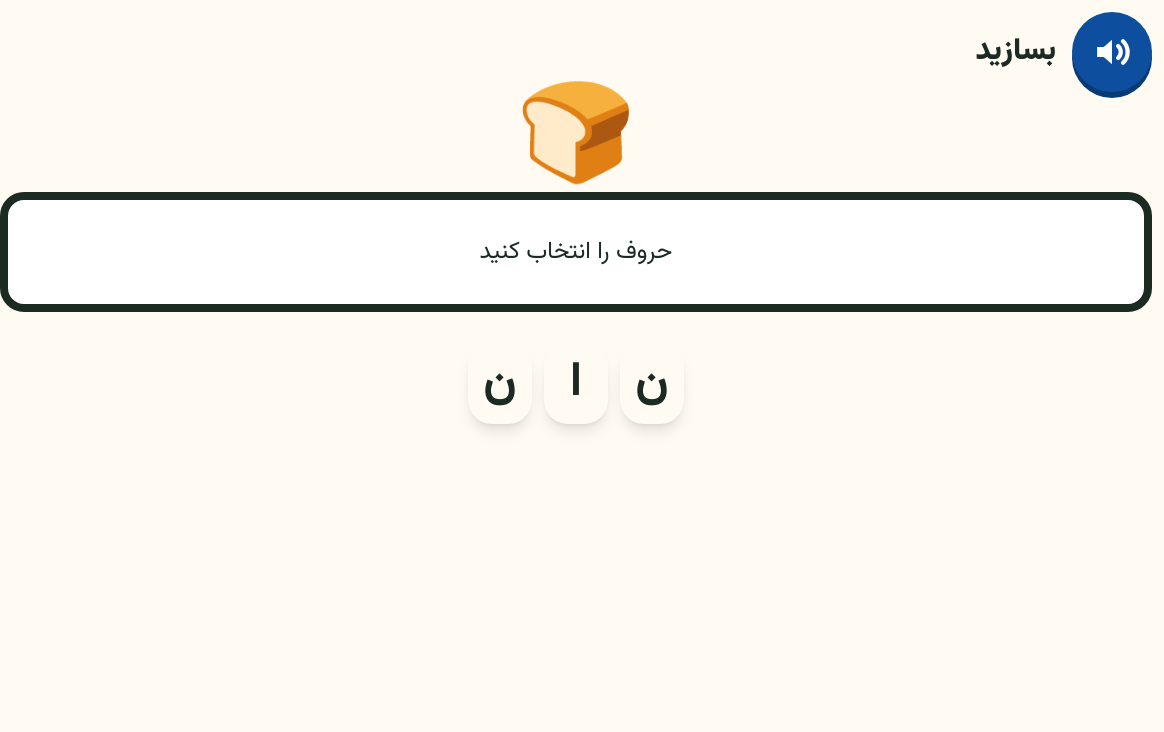
Test: BuildWordExercise undo › returns a placed letter before check
Click the 2nd button "ن" at (652, 384), box left=620, top=344, right=684, bottom=424
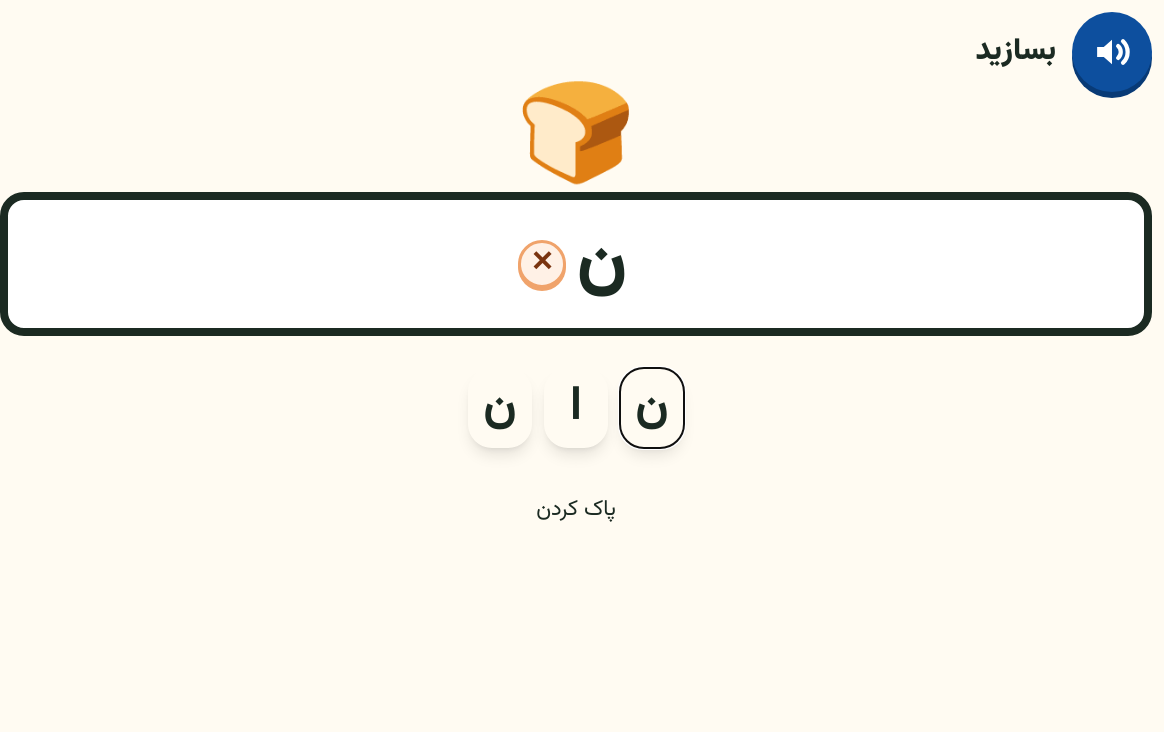
Click the button "ا" at (576, 408), box left=544, top=368, right=608, bottom=448
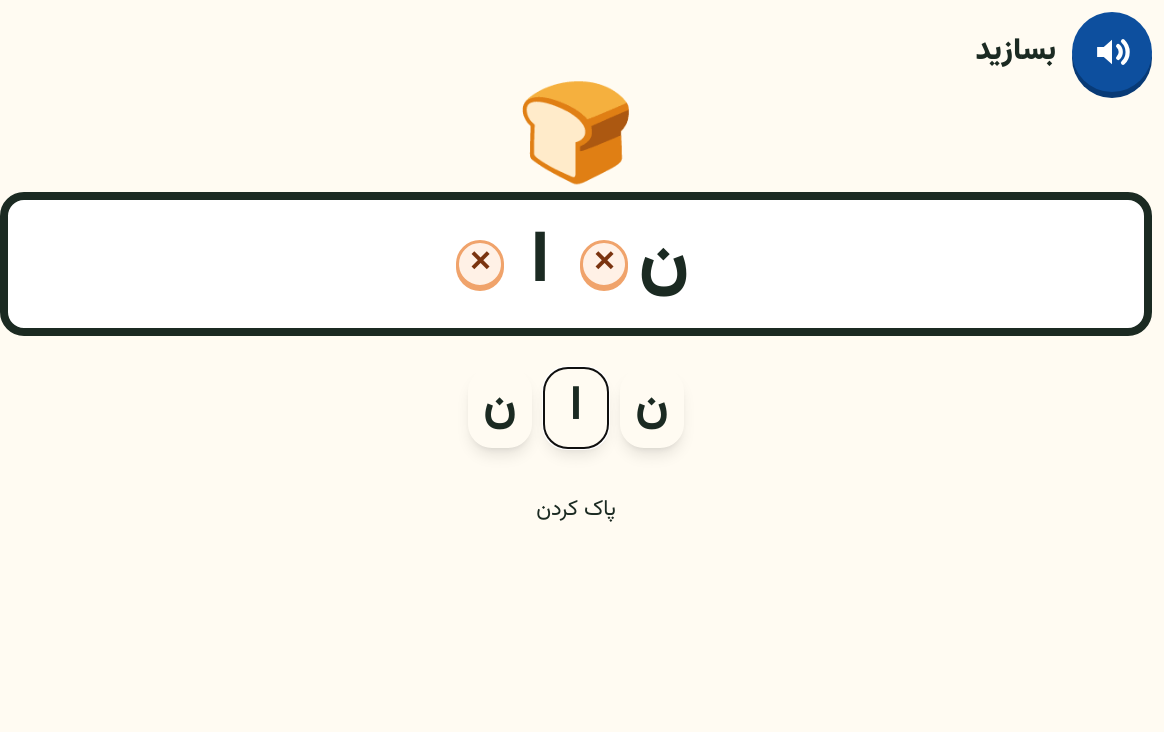
Now the 1st button "ا" is shown, box left=508, top=224, right=572, bottom=304
Click the 1st button "✕" at (480, 264), box left=456, top=240, right=504, bottom=288
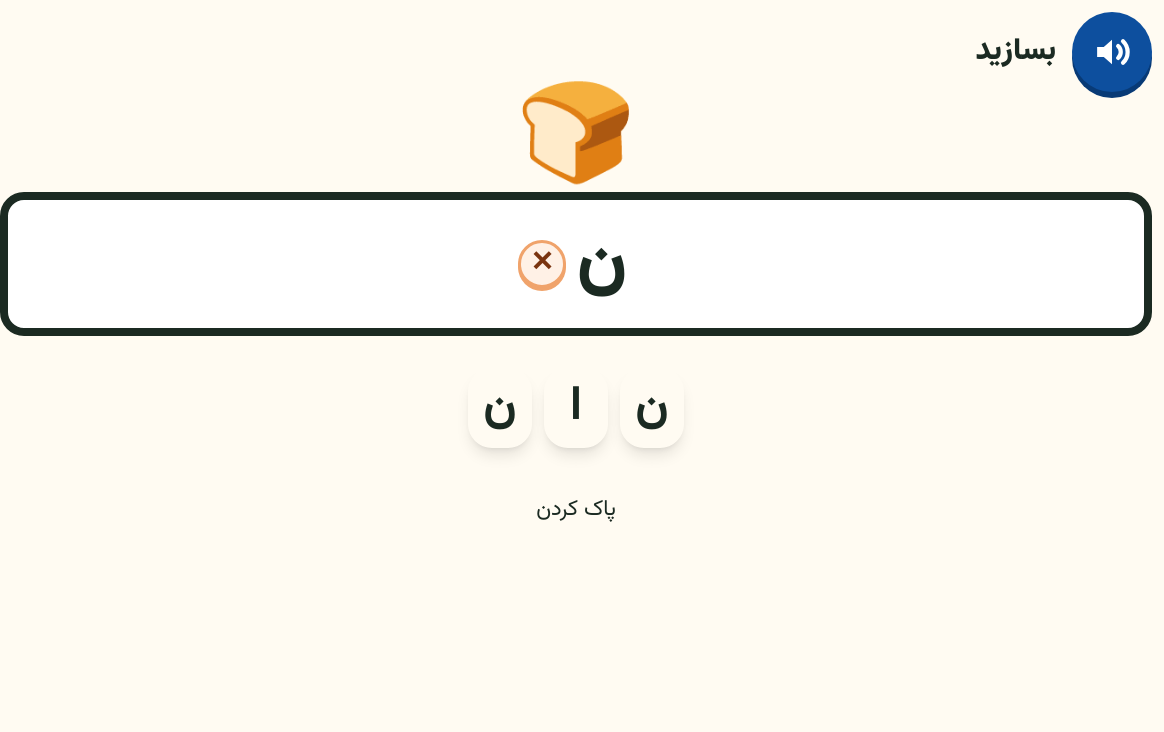
Click the button "ا" at (576, 408), box left=544, top=368, right=608, bottom=448
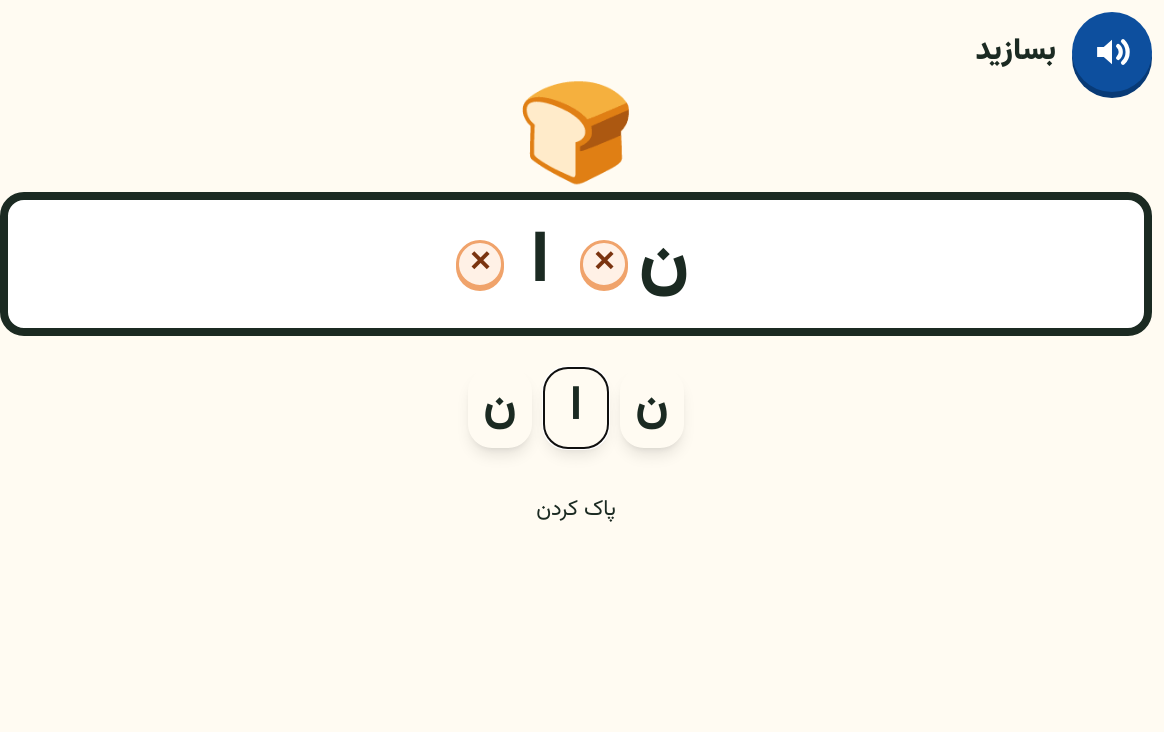
Now the 1st button "ا" is shown, box left=508, top=224, right=572, bottom=304
